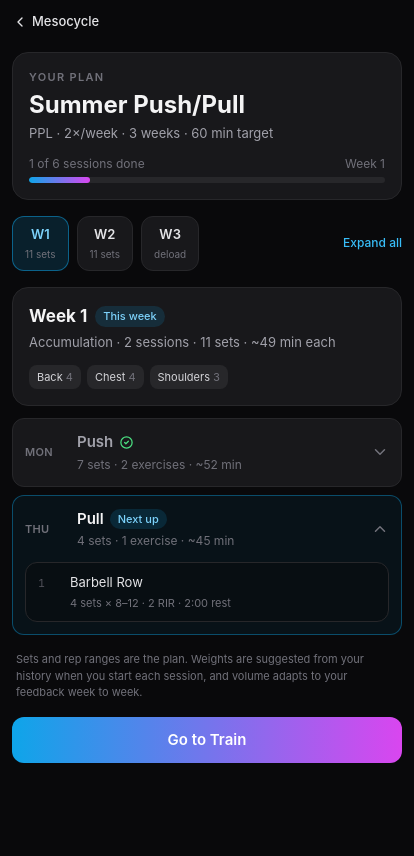
Test: MesocyclePlanPage › expands every session with Expand all
Step 1. Click the button "Expand all" → [372, 243], box [343, 234, 402, 252]
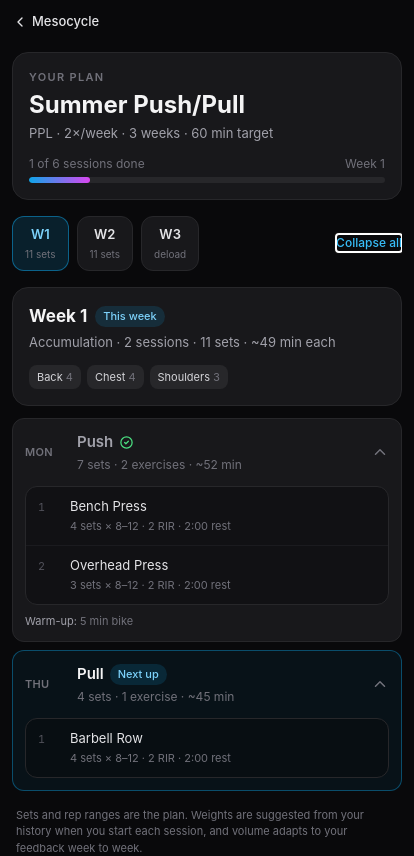
Check: the text "Barbell Row" is shown, box [70, 730, 143, 746]
Check: the text "Bench Press" is shown, box [70, 498, 147, 514]
